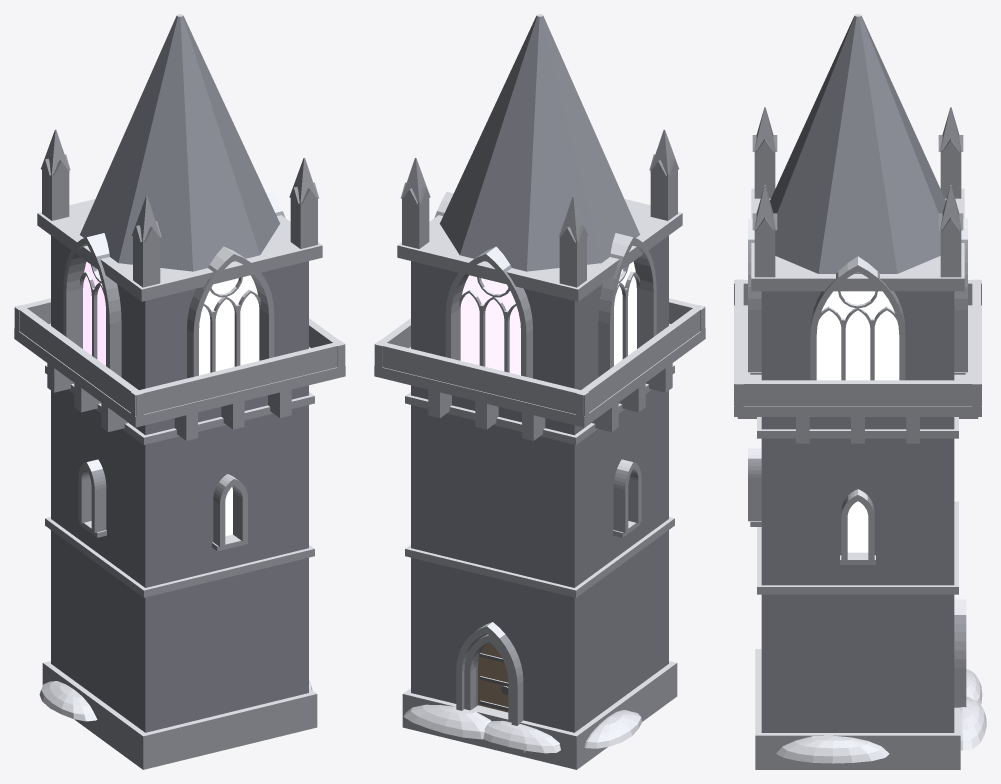
Rendered from AR_Torre_Controle.fbx.
The picture shows the model from 3 angles, left to right: view 1: azimuth 30°, elevation 25°; view 2: azimuth 150°, elevation 25°; view 3: azimuth 270°, elevation 25°; orthographic projection. The views are drawn at different scales.
Parts seen in each view (by area): view 1: AR_Torre_Controle; view 2: AR_Torre_Controle; view 3: AR_Torre_Controle.
Part boxes in pixels (box(x1,y1,x2,y2)): AR_Torre_Controle: box(14, 14, 345, 769); AR_Torre_Controle: box(374, 14, 705, 769); AR_Torre_Controle: box(734, 14, 986, 769).
Size of the model in its own units: 7.52 by 22.8 by 7.35.
